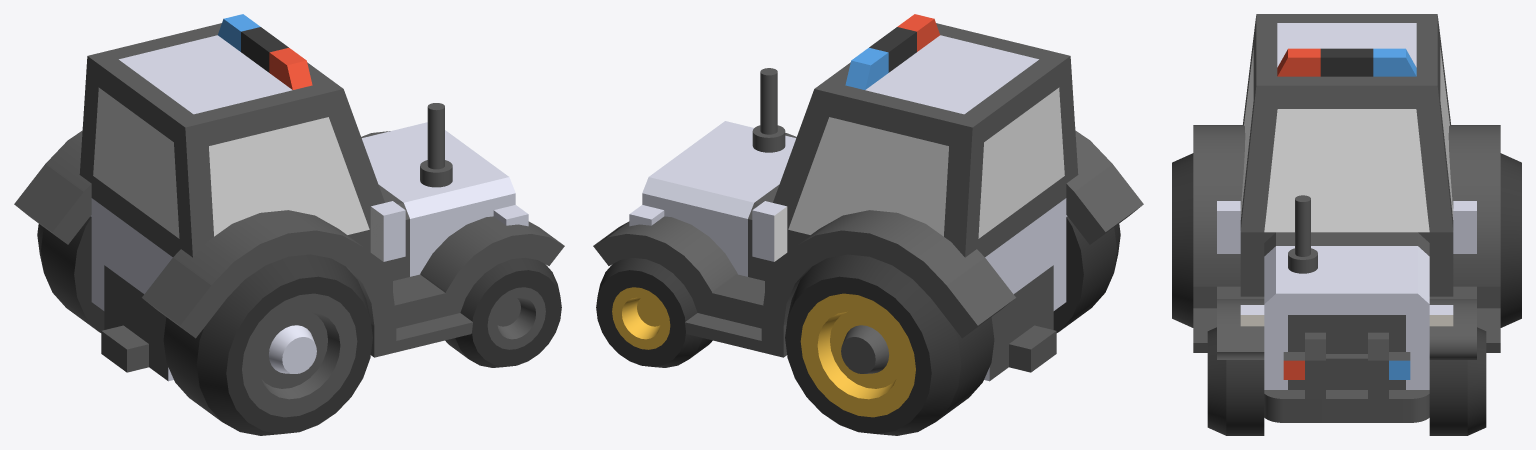
The model's file is tractorPolice.dae.
3 views of the same model, side by side, from view 1: azimuth 30°, elevation 25°; view 2: azimuth 150°, elevation 25°; view 3: azimuth 270°, elevation 25° (orthographic). The views are drawn at different scales.
Parts seen in each view (by area): view 1: body, skirts, wheel_backLeft, wheel_frontLeft, wheel_backRight; view 2: body, skirts, wheel_backRight, wheel_frontRight, wheel_backLeft; view 3: body, skirts, grill, wheel_frontLeft, wheel_frontRight, wheel_backLeft, wheel_backRight.
Part boxes in pixels (box(x1,y1,x2,y2)): body: box(79, 14, 528, 381); skirts: box(14, 130, 564, 357); wheel_backLeft: box(163, 254, 372, 435); wheel_frontLeft: box(445, 257, 561, 367); wheel_backRight: box(37, 216, 104, 332); body: box(629, 14, 1078, 381); skirts: box(593, 130, 1143, 357); wheel_backRight: box(785, 254, 994, 435); wheel_frontRight: box(596, 257, 712, 367); wheel_backLeft: box(1053, 216, 1120, 332); body: box(1217, 14, 1476, 389); skirts: box(1193, 125, 1500, 359); grill: box(1264, 332, 1429, 422); wheel_frontLeft: box(1207, 327, 1264, 435); wheel_frontRight: box(1429, 327, 1486, 435); wheel_backLeft: box(1172, 153, 1193, 327); wheel_backRight: box(1500, 153, 1521, 327).
Size of the model in its own units: 1.51 by 1.17 by 1.25.
